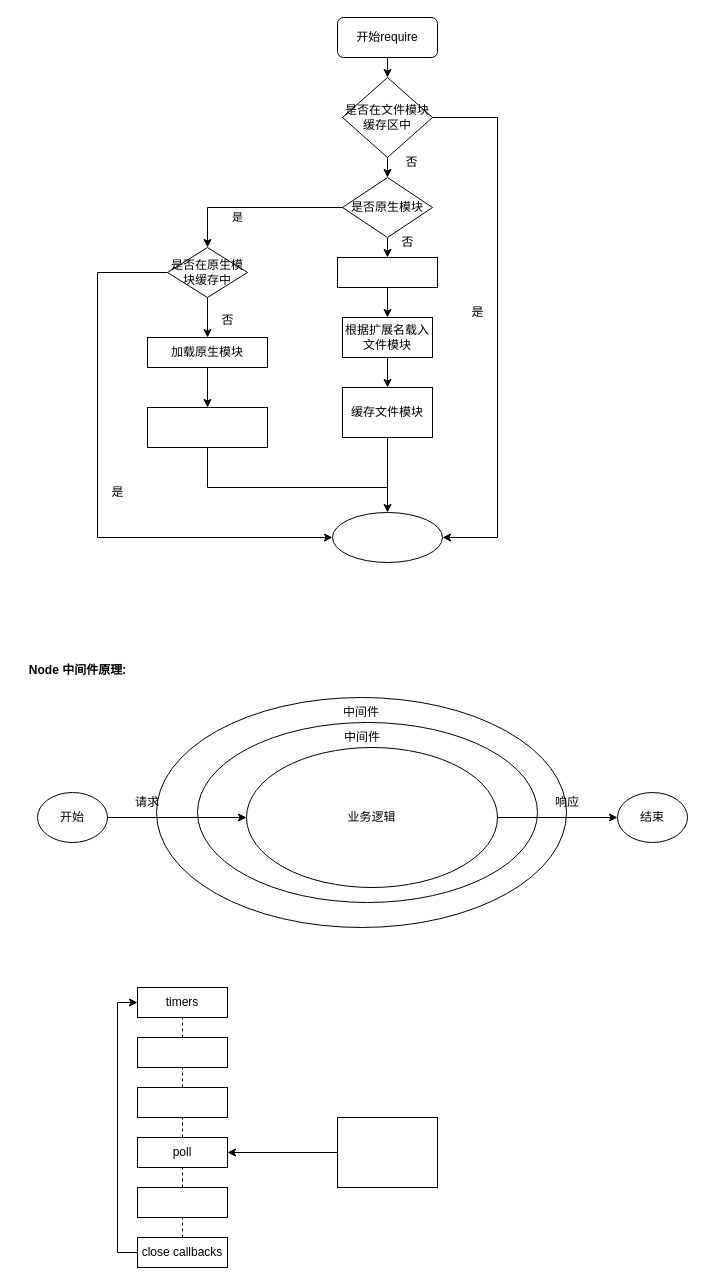
Some shapes in this 705 by 1285 pixel diagram are drawn without their labels. The centre of each missing label's shape, as x and y in pixels:
"check" belongs at (182,1202).
"I/O callbacks" belongs at (182,1052).
"idle, prepare" belongs at (182,1102).
"incoming: connections, data,ect." belongs at (387,1152).
"查找文件模块" belongs at (387,272).
"缓存原生模块" belongs at (207,427).
"返回exports" belongs at (387,537).
